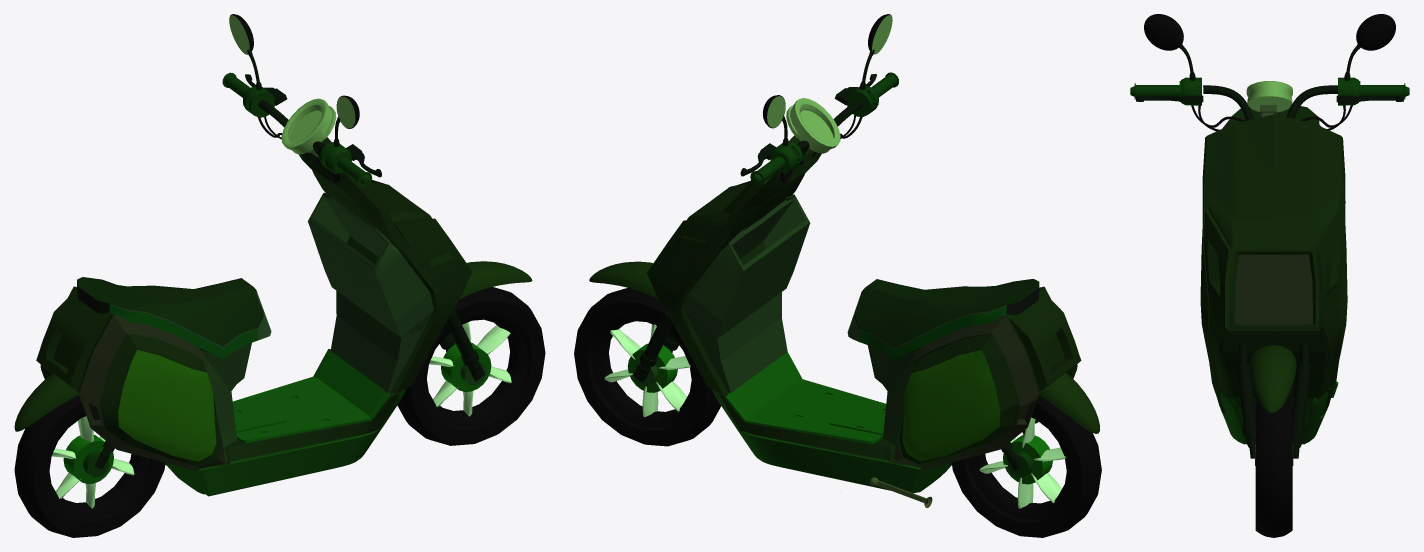
File: moto3.fbx
3 views of the same model, side by side, from view 1: azimuth 30°, elevation 25°; view 2: azimuth 150°, elevation 25°; view 3: azimuth 270°, elevation 25° (orthographic).
Parts seen in each view (by area): view 1: pasted__pasted__pSphere8, pasted__pasted__polySurface88, pasted__pasted__polySurface89, pasted__pasted__polySurface90, pasted__pasted__pCube2, pasted__pasted__polySurface87, pasted__pasted__pCylinder12, pasted__pasted__pCylinder11; view 2: pasted__pasted__pSphere8, pasted__pasted__polySurface88, pasted__pasted__polySurface89, pasted__pasted__polySurface90, pasted__pasted__pCube2, pasted__pasted__polySurface87, pasted__pasted__pCylinder12, pasted__pasted__pCylinder11; view 3: pasted__pasted__pSphere8, pasted__pasted__polySurface82, pasted__pasted__polySurface89, pasted__pasted__pCylinder12, pasted__pasted__polySurface87, pasted__pasted__polySurface88, pasted__pasted__pCylinder11, pasted__pasted__pCube2.
Boxes of the visible parts, <box> form: pasted__pasted__pSphere8: <box>14,137,532,471</box>; pasted__pasted__polySurface88: <box>165,192,433,496</box>; pasted__pasted__polySurface89: <box>397,287,545,445</box>; pasted__pasted__polySurface90: <box>14,395,165,537</box>; pasted__pasted__pCube2: <box>77,277,271,359</box>; pasted__pasted__polySurface87: <box>222,14,372,186</box>; pasted__pasted__pCylinder12: <box>94,49,484,469</box>; pasted__pasted__pCylinder11: <box>281,98,336,157</box>; pasted__pasted__pSphere8: <box>589,135,1099,507</box>; pasted__pasted__polySurface88: <box>685,194,951,493</box>; pasted__pasted__polySurface89: <box>574,288,720,446</box>; pasted__pasted__polySurface90: <box>951,395,1101,537</box>; pasted__pasted__pCube2: <box>847,279,1039,360</box>; pasted__pasted__polySurface87: <box>750,14,898,185</box>; pasted__pasted__pCylinder12: <box>633,49,1025,470</box>; pasted__pasted__pCylinder11: <box>786,98,840,155</box>; pasted__pasted__pSphere8: <box>1200,114,1347,414</box>; pasted__pasted__polySurface82: <box>1235,254,1312,324</box>; pasted__pasted__polySurface89: <box>1255,385,1293,537</box>; pasted__pasted__pCylinder12: <box>1136,44,1403,458</box>; pasted__pasted__polySurface87: <box>1130,14,1409,131</box>; pasted__pasted__polySurface88: <box>1220,381,1338,444</box>; pasted__pasted__pCylinder11: <box>1246,81,1292,116</box>; pasted__pasted__pCube2: <box>1230,105,1319,125</box>.
Size of the model in its own units: 1459 by 1144 by 675.
Materials: 3 (1 with a texture image).
